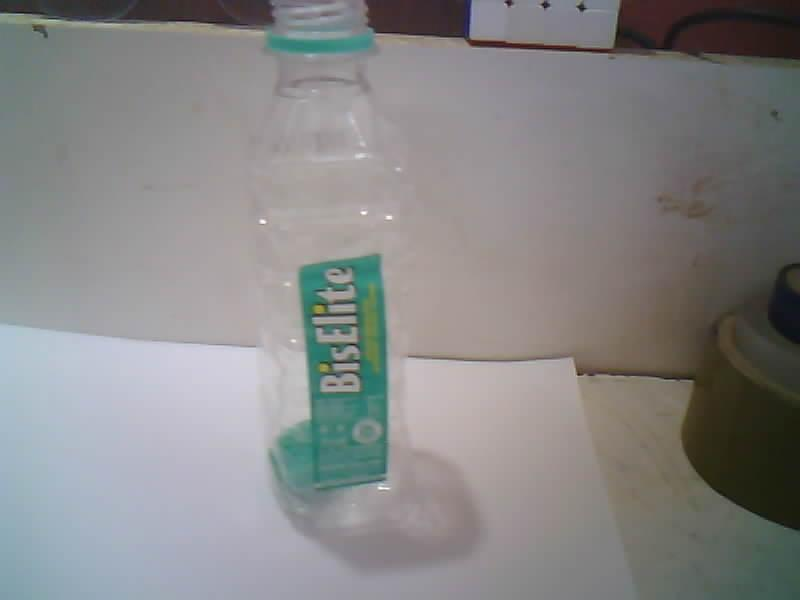non-biodegradable: (250, 0, 419, 531)
